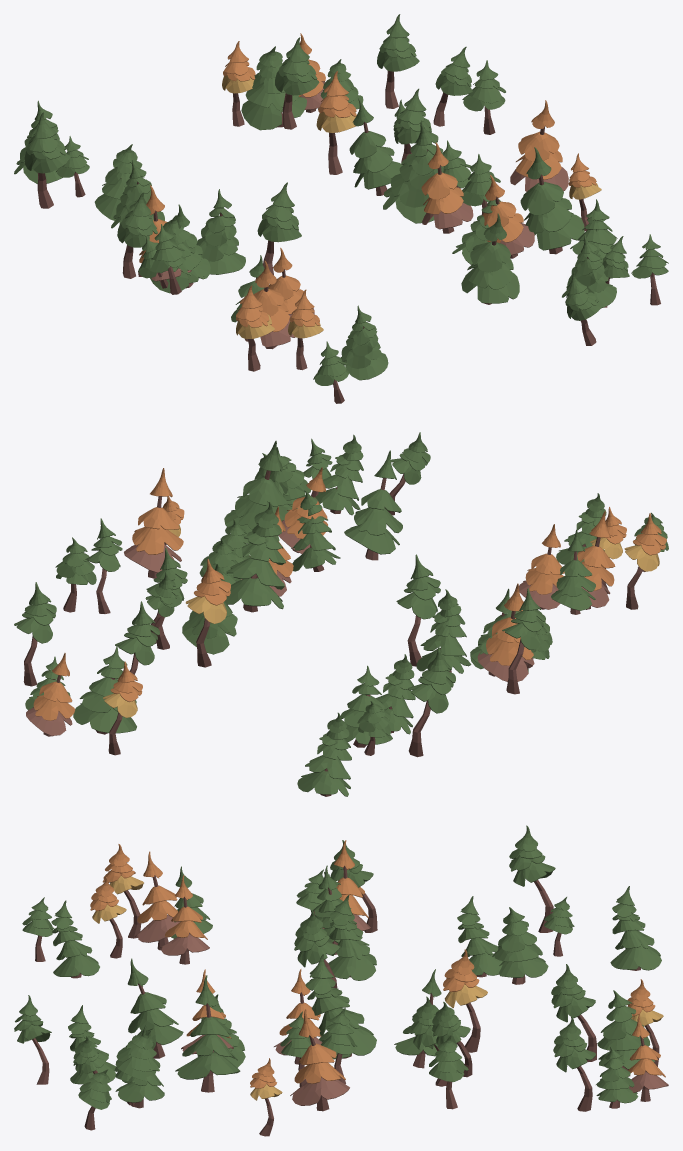
The model's file is TerrainTrees.fbx.
3 renders of one model, top to bottom at view 1: azimuth 30°, elevation 25°; view 2: azimuth 150°, elevation 25°; view 3: azimuth 270°, elevation 25°, orthographic. The views are drawn at different scales.
Visible parts, largest first — view 1: PineTree_2.002, PineTree_2.004, PineTree_3.003, PineTree_1.002, PineTree_Autumn_2.004, PineTree_2.003, PineTree_3.004, PineTree_Autumn_2.001, PineTree_3.005, PineTree_4.009, PineTree_Autumn_4.003, PineTree_4.007 (+33 smaller); view 2: PineTree_3.003, PineTree_2.004, PineTree_Autumn_2.001, PineTree_3.006, PineTree_1.002, PineTree_2.002, PineTree_Autumn_2.006, PineTree_3.004, PineTree_3.001, PineTree_4.009, PineTree_Autumn_2.002, PineTree_Autumn_4.003 (+27 smaller); view 3: PineTree_2.002, PineTree_Autumn_2.001, PineTree_3.003, PineTree_1.003, PineTree_3.004, PineTree_3.006, PineTree_2.004, PineTree_1.002, PineTree_Autumn_2.007, PineTree_3.005, PineTree_Autumn_4.003, PineTree_Autumn_2.005 (+34 smaller).
Part boxes in pixels (box(x1,y1,x2,y2)): PineTree_2.002: box(520, 147, 584, 254); PineTree_2.004: box(461, 213, 519, 304); PineTree_3.003: box(383, 120, 444, 223); PineTree_1.002: box(241, 46, 306, 130); PineTree_Autumn_2.004: box(421, 142, 473, 233); PineTree_2.003: box(349, 98, 402, 195); PineTree_3.004: box(196, 189, 245, 274); PineTree_Autumn_2.001: box(510, 100, 568, 191); PineTree_3.005: box(340, 305, 388, 380); PineTree_4.009: box(24, 112, 70, 208); PineTree_Autumn_4.003: box(316, 71, 356, 174); PineTree_4.007: box(275, 37, 319, 129); PineTree_3.003: box(225, 501, 285, 612); PineTree_2.004: box(344, 450, 402, 560); PineTree_Autumn_2.001: box(124, 468, 183, 578); PineTree_3.006: box(297, 712, 351, 796); PineTree_1.002: box(73, 646, 136, 734); PineTree_2.002: box(224, 440, 288, 543); PineTree_Autumn_2.006: box(477, 583, 534, 681); PineTree_3.004: box(416, 589, 471, 673); PineTree_3.001: box(314, 434, 363, 515); PineTree_4.009: box(408, 647, 455, 757); PineTree_Autumn_2.002: box(26, 653, 75, 736); PineTree_Autumn_4.003: box(185, 559, 230, 667); PineTree_2.002: box(175, 975, 240, 1092); PineTree_Autumn_2.001: box(290, 1009, 349, 1111); PineTree_3.003: box(305, 954, 376, 1059); PineTree_1.003: box(492, 907, 548, 984); PineTree_3.004: box(328, 895, 376, 980); PineTree_3.006: box(610, 886, 661, 970); PineTree_2.004: box(125, 958, 183, 1058); PineTree_1.002: box(597, 990, 654, 1076); PineTree_Autumn_2.007: box(135, 851, 180, 950); PineTree_3.005: box(51, 900, 99, 978); PineTree_Autumn_4.003: box(443, 949, 487, 1052); PineTree_Autumn_2.005: box(159, 875, 209, 964).
Size of what is drawn, in the model's own units: 7465 by 2115 by 9989.
